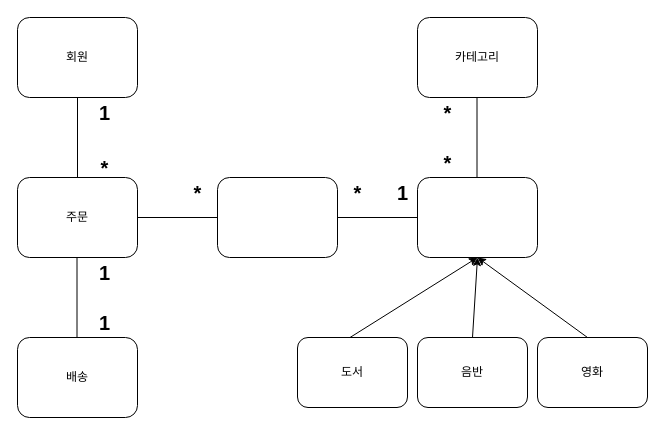
Some shapes in this 665 by 435 pixel diagram are drawn without their labels. Here are the shapes that lost their labels. From the top down, the centre of each, then its label:
At (x=277, y=217): "주문상품".
At (x=477, y=217): "상품".
